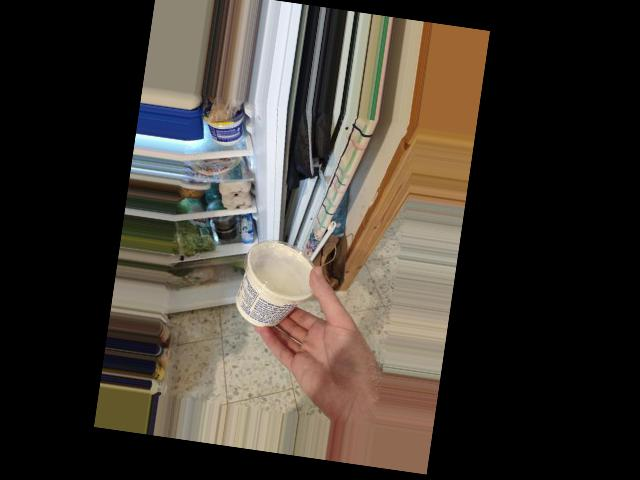cotage: (239, 238, 317, 332)
